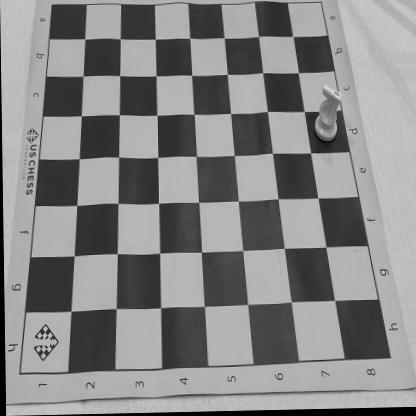white-knight: (314, 86, 342, 145)
